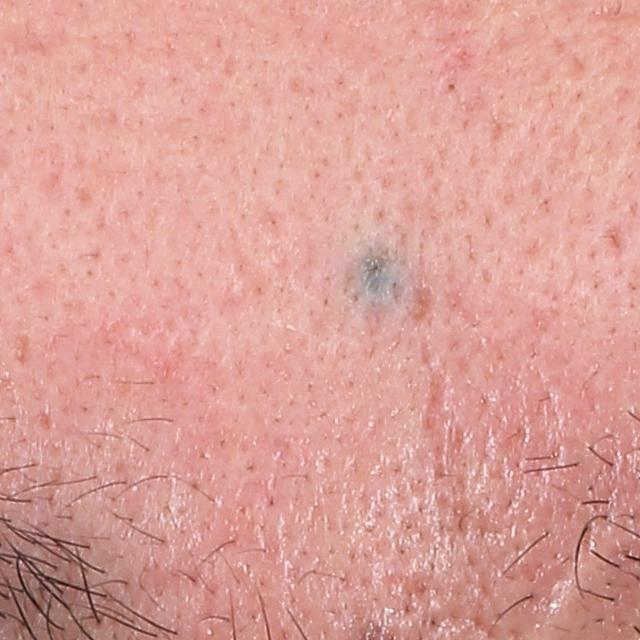atrophic_scar: (416, 334, 507, 542), (411, 282, 433, 327), (13, 329, 30, 369)
other: (346, 223, 407, 313)
